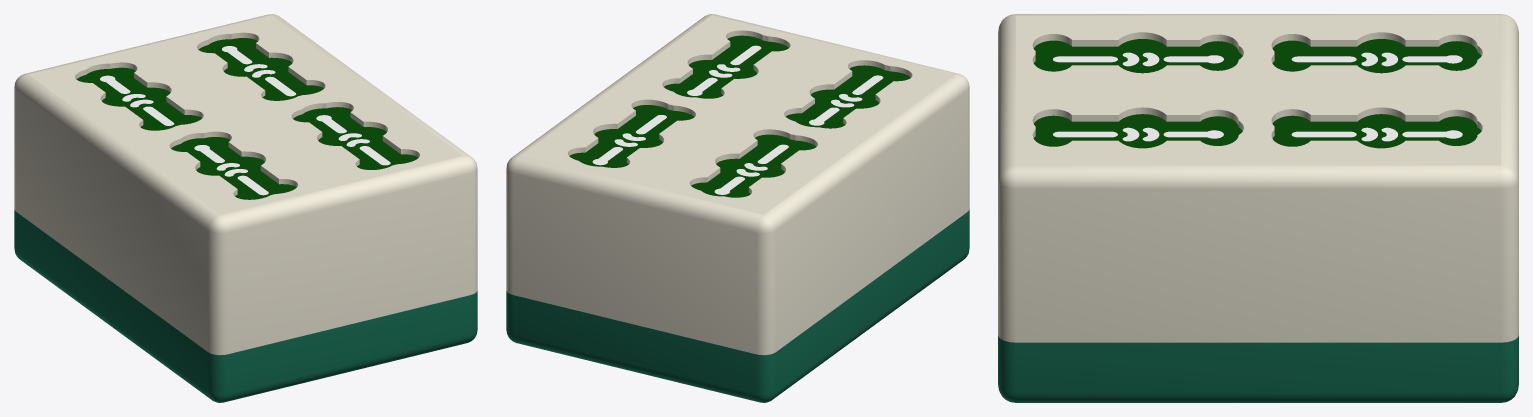
File: Sou4.glb
3 views of the same model, side by side, from view 1: azimuth 30°, elevation 25°; view 2: azimuth 150°, elevation 25°; view 3: azimuth 270°, elevation 25° (orthographic). The views are drawn at different scales.
Visible parts, largest first — view 1: Sou4_body, Sou4_inset; view 2: Sou4_body, Sou4_inset; view 3: Sou4_body, Sou4_inset.
Boxes of the visible parts, x1,y1,x2,y2 form: Sou4_body: (14, 14, 477, 402); Sou4_inset: (76, 38, 418, 199); Sou4_body: (506, 14, 969, 402); Sou4_inset: (569, 35, 910, 197); Sou4_body: (998, 14, 1518, 402); Sou4_inset: (1033, 39, 1481, 148).
Size of the model in its own units: 0.024 by 0.016 by 0.032.
